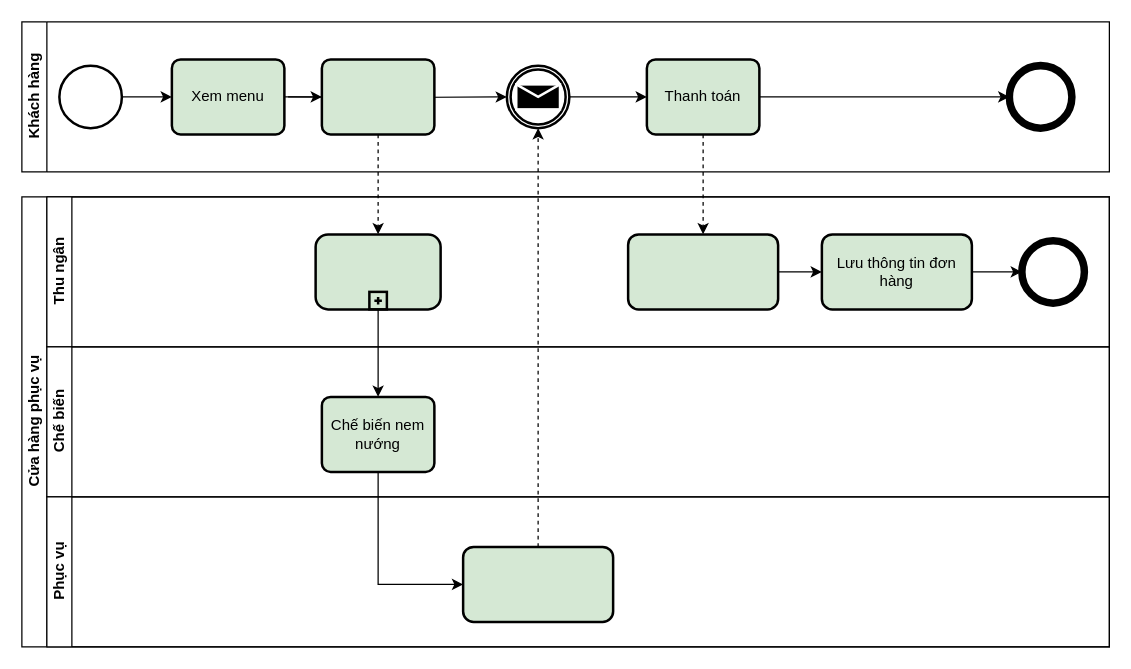
The diagram is 1131 pixels wide and 669 high, and some of its shapes have lost their labels. Each missing label, with the centre of its shape:
Nhận tiền: (x=702, y=271)
Phục vụ nem nướng: (x=537, y=583)
Tạo đơn hàng: (x=377, y=271)
Đặt món: (x=377, y=96)
